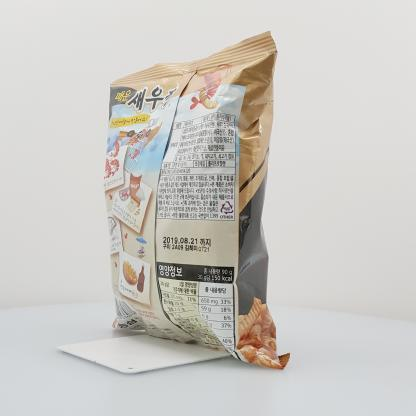Plastic Packaging: (87, 24, 302, 378)
